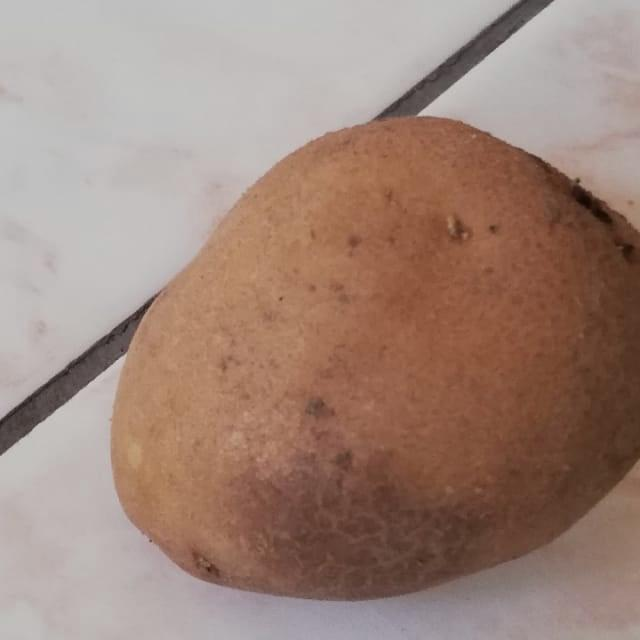potato: (88, 96, 640, 616)
